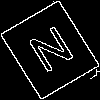N: (25, 25, 82, 83)
